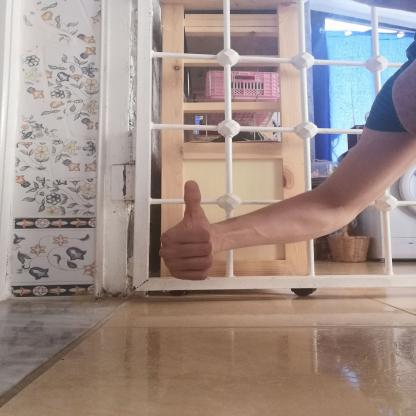ALIF: (144, 170, 232, 291)
